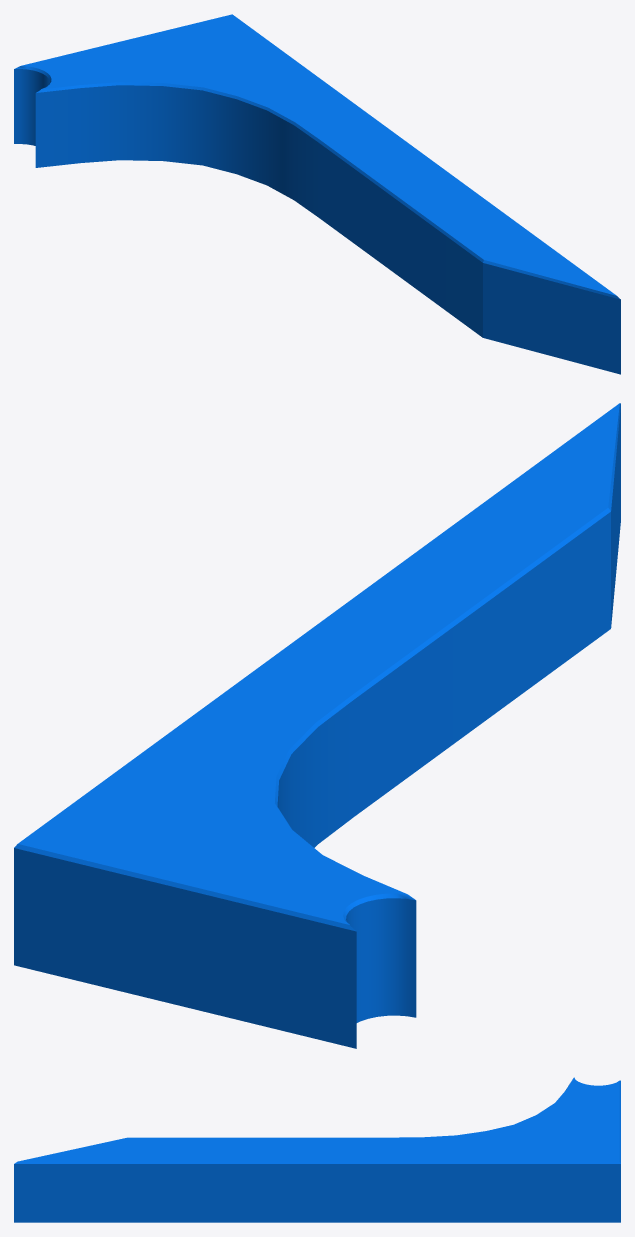
The model's file is SM_ObsWallLeft.fbx.
3 renders of one model, top to bottom at view 1: azimuth 30°, elevation 25°; view 2: azimuth 150°, elevation 25°; view 3: azimuth 270°, elevation 25°, orthographic. The views are drawn at different scales.
Parts seen in each view (by area): view 1: Object008; view 2: Object008; view 3: Object008.
Part boxes in pixels (x1,y1,x2,y2): Object008: [14, 14, 620, 374]; Object008: [14, 403, 620, 1048]; Object008: [14, 1077, 620, 1222].
Bounding box in the file's own units: 8.12 × 2.64 × 24.01.
